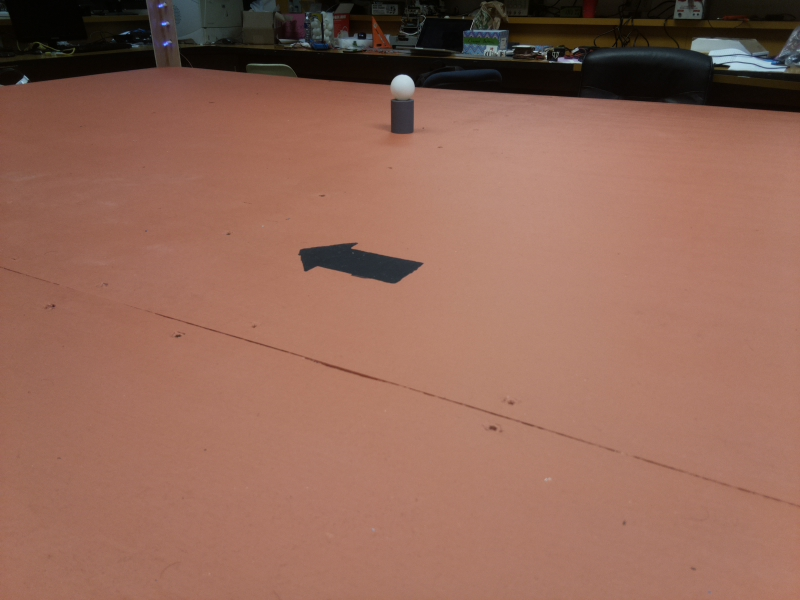obstacle: (389, 75, 414, 138)
start: (301, 240, 429, 290)
